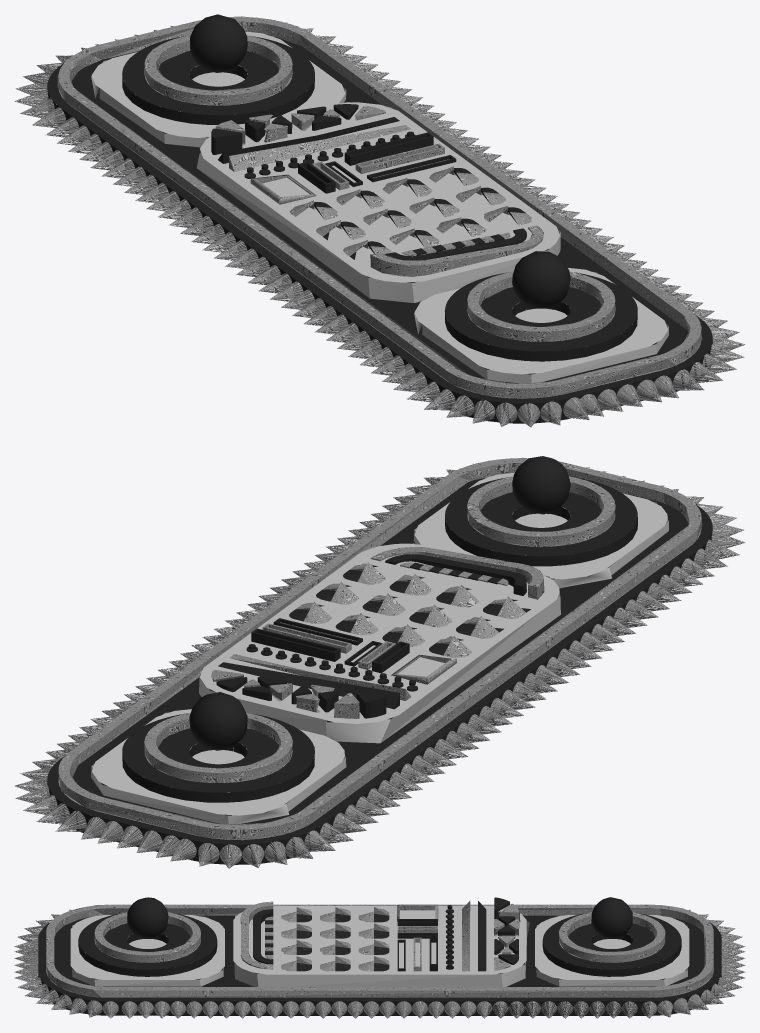
The model's file is DJSET-BLCK-v37.glb.
3 renders of one model, top to bottom at view 1: azimuth 30°, elevation 25°; view 2: azimuth 150°, elevation 25°; view 3: azimuth 270°, elevation 25°, orthographic. The views are drawn at different scales.
Parts seen in each view (by area): view 1: DJSET-BLCK; view 2: DJSET-BLCK; view 3: DJSET-BLCK.
Part boxes in pixels (bbox=[...]): DJSET-BLCK: bbox=[14, 14, 745, 427]; DJSET-BLCK: bbox=[15, 456, 745, 868]; DJSET-BLCK: bbox=[14, 897, 745, 1018].
Size of the model in its own units: 0.6638 by 0.1922 by 1.82.
4 materials, 1 textured.
